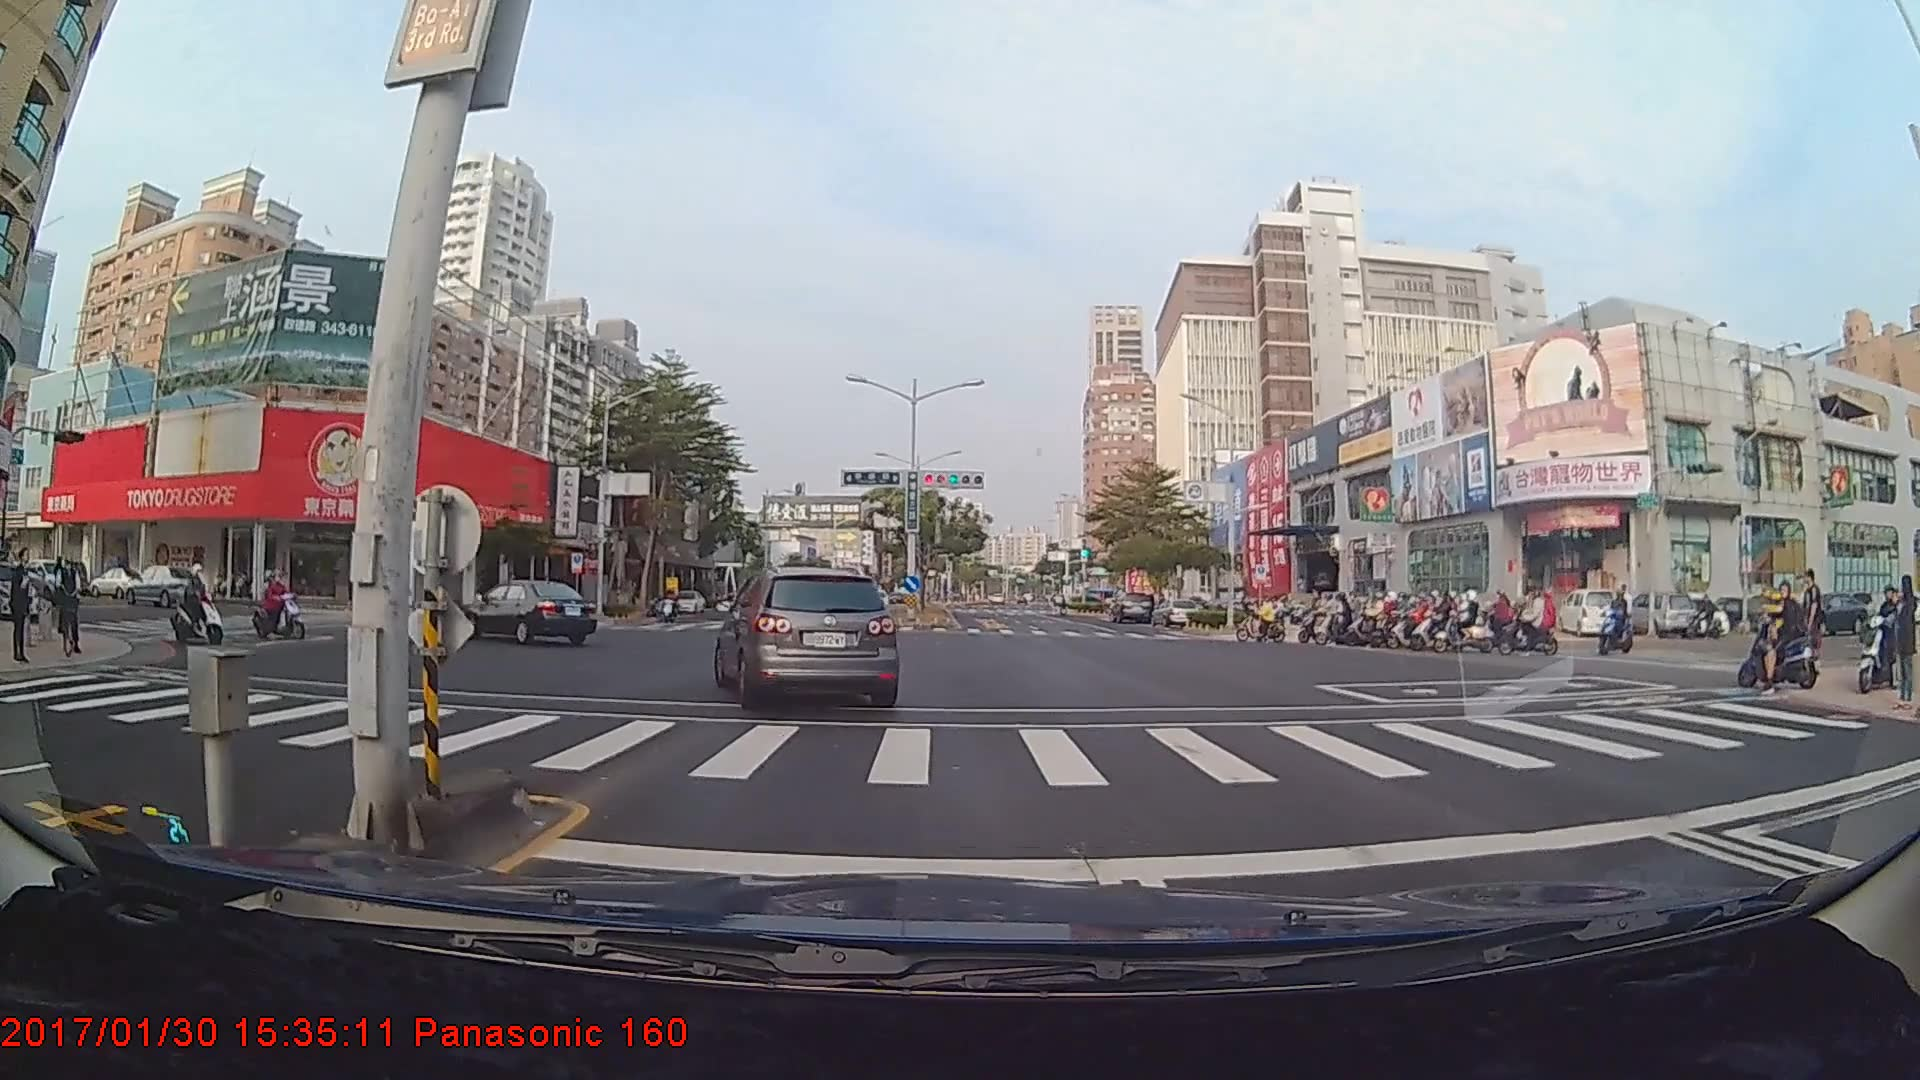pedestrian: (1887, 573, 1920, 714), (1798, 569, 1826, 680), (10, 551, 37, 665)
rider: (1744, 574, 1830, 695), (1853, 584, 1915, 692), (168, 561, 237, 649), (1496, 578, 1567, 662), (248, 573, 311, 642), (47, 555, 80, 662), (1448, 590, 1499, 653), (1290, 592, 1349, 645), (1420, 591, 1474, 647), (1343, 595, 1394, 649), (1598, 591, 1641, 655), (1234, 596, 1291, 643), (1393, 600, 1442, 647), (657, 584, 685, 621)
vehicle: (713, 565, 902, 707), (463, 580, 598, 647), (122, 563, 205, 606), (1108, 589, 1153, 625)
